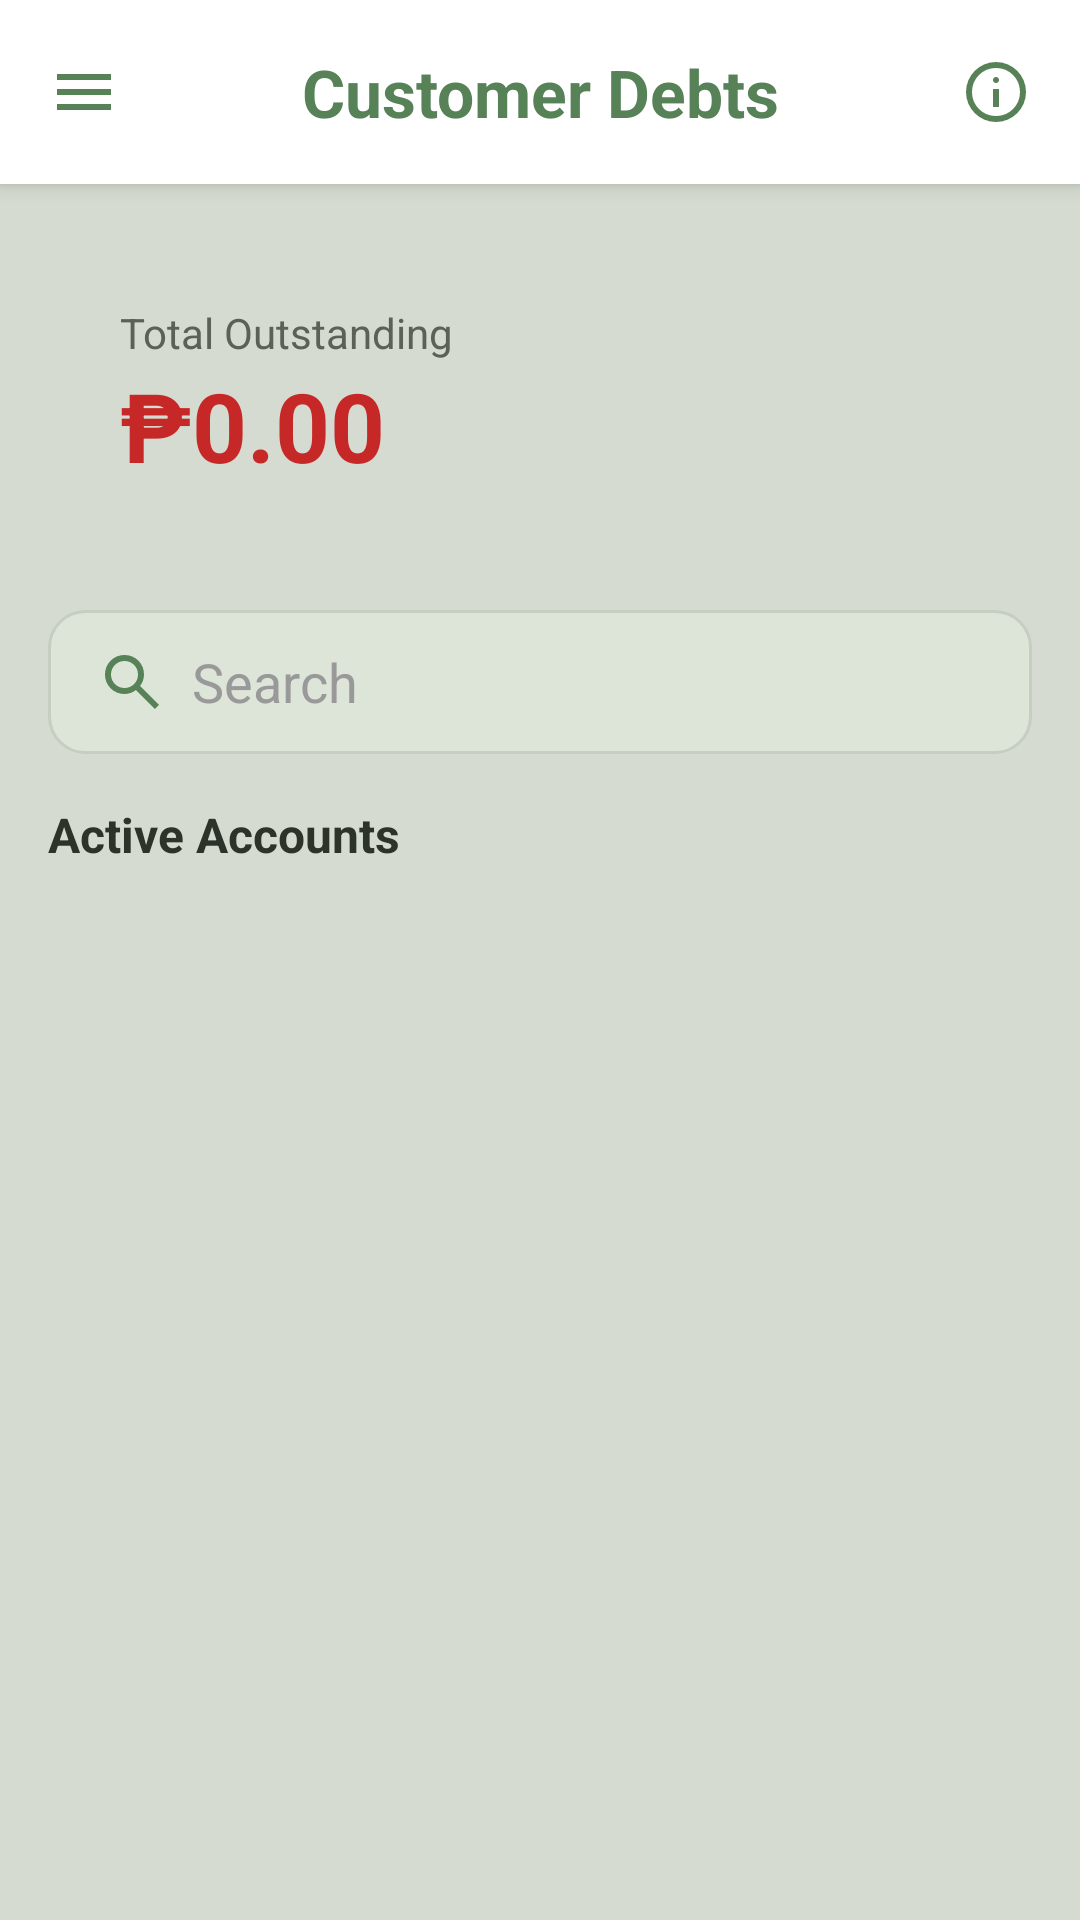

Where icons sit on this 1080x1920 app screen, as bbox=[x1, y1, x2, y2]:
info: bbox=[966, 62, 1026, 122]
menu: bbox=[57, 74, 111, 110]
